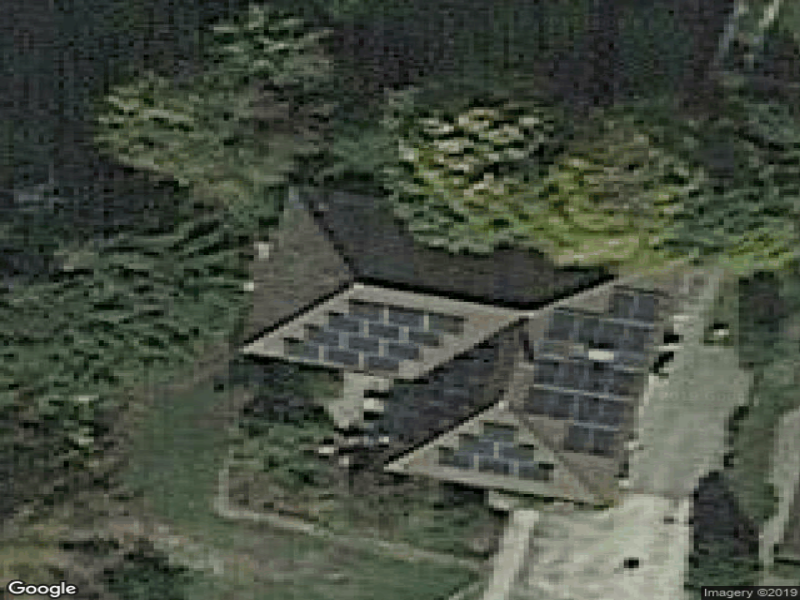pv: (527, 287, 666, 459), (285, 299, 469, 378), (440, 420, 558, 485)
